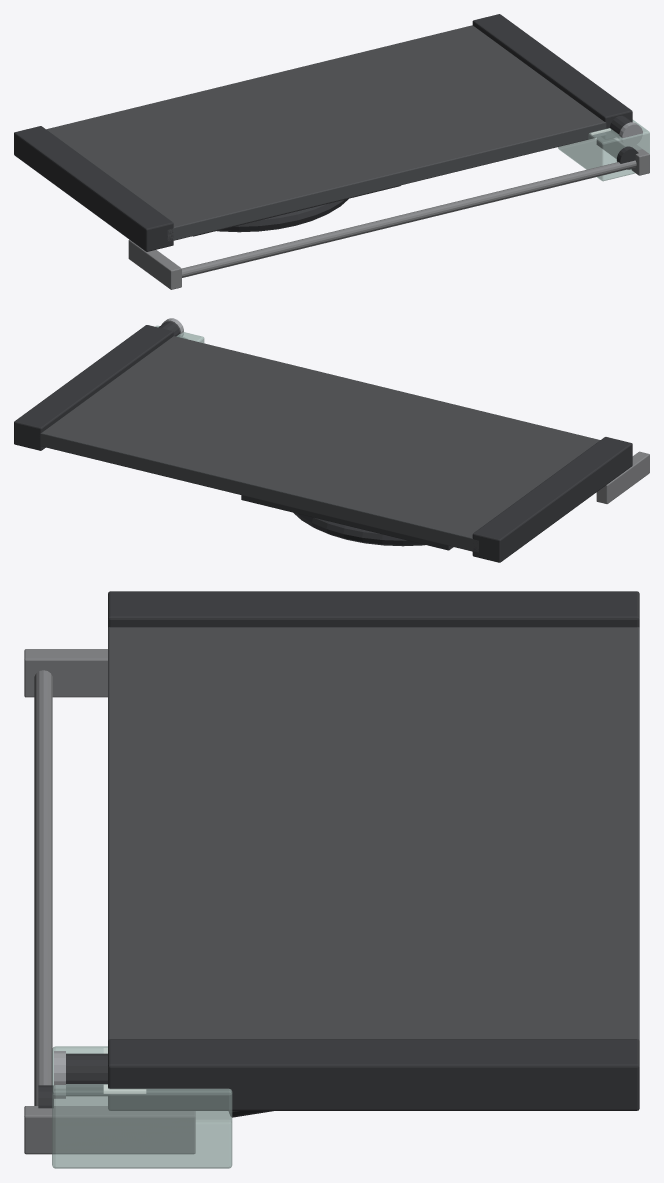
Rendered from engine_bay_radiator.glb.
3 views of the same model, one above another, from view 1: azimuth 30°, elevation 25°; view 2: azimuth 150°, elevation 25°; view 3: azimuth 270°, elevation 25° (orthographic). The views are drawn at different scales.
Visible parts, largest first — view 1: BLK_RAD_core, BLK_RAD_tank-1, BLK_RAD_surod, BLK_RAD_tank1, BLK_RAD_exptank, BLK_RAD_shroud, BLK_RAD_supbrk-1, BLK_RAD_supbrk1, RAD_fillcap; view 2: BLK_RAD_core, BLK_RAD_tank-1, BLK_RAD_tank1, BLK_RAD_shroud, BLK_RAD_supbrk-1, BLK_RAD_shroudplate; view 3: BLK_RAD_core, BLK_RAD_tank1, BLK_RAD_tank-1, BLK_RAD_exptank, BLK_RAD_supbrk1, BLK_RAD_surod, BLK_RAD_supbrk-1, RAD_fillneck.
Part boxes in pixels (x1,y1,x2,y2): BLK_RAD_core: [46, 25, 606, 241]; BLK_RAD_tank-1: [14, 126, 173, 251]; BLK_RAD_surod: [182, 160, 636, 277]; BLK_RAD_tank1: [472, 14, 632, 139]; BLK_RAD_exptank: [558, 119, 649, 181]; BLK_RAD_shroud: [217, 198, 348, 232]; BLK_RAD_supbrk-1: [128, 239, 181, 289]; BLK_RAD_supbrk1: [596, 137, 649, 175]; RAD_fillcap: [619, 122, 642, 146]; BLK_RAD_core: [40, 336, 600, 552]; BLK_RAD_tank-1: [472, 437, 632, 562]; BLK_RAD_tank1: [14, 325, 173, 450]; BLK_RAD_shroud: [293, 512, 424, 546]; BLK_RAD_supbrk-1: [596, 451, 649, 503]; BLK_RAD_shroudplate: [241, 495, 453, 550]; BLK_RAD_core: [108, 627, 639, 1040]; BLK_RAD_tank1: [108, 1039, 639, 1110]; BLK_RAD_tank-1: [108, 591, 639, 627]; BLK_RAD_exptank: [52, 1046, 232, 1168]; BLK_RAD_supbrk1: [24, 1106, 195, 1154]; BLK_RAD_surod: [34, 670, 52, 1105]; BLK_RAD_supbrk-1: [24, 649, 107, 697]; RAD_fillneck: [66, 1053, 107, 1096].
Bounding box in the file's own units: 1.32 × 0.13 × 0.7175.
